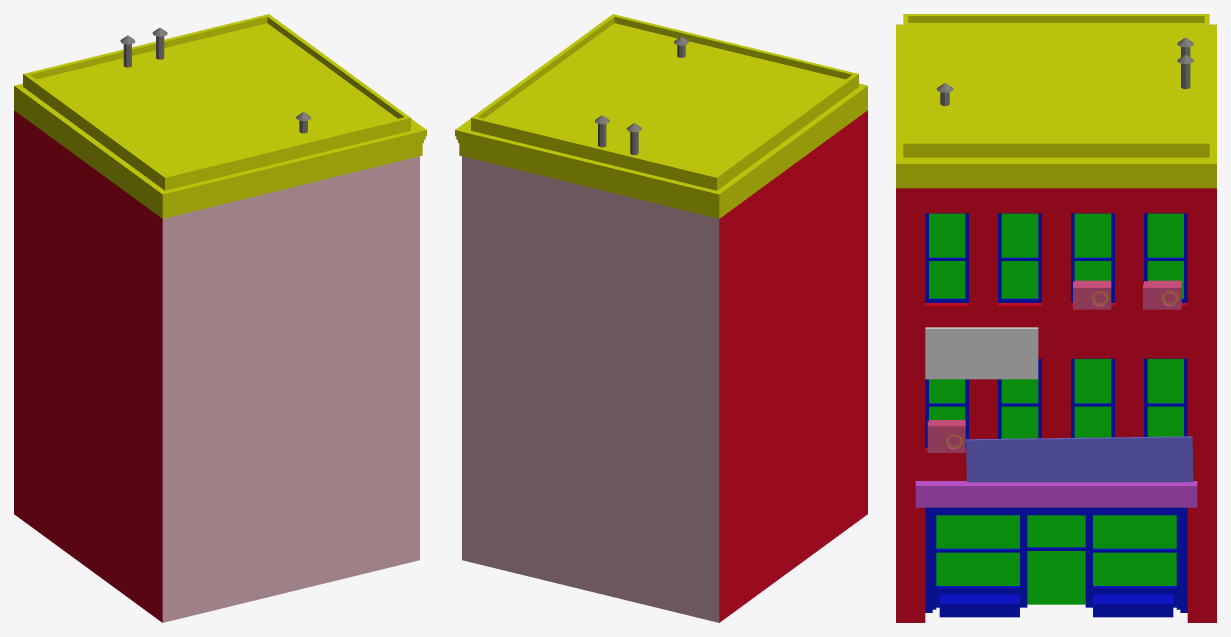
The model's file is Building1.fbx.
3 views of the same model, side by side, from view 1: azimuth 30°, elevation 25°; view 2: azimuth 150°, elevation 25°; view 3: azimuth 270°, elevation 25° (orthographic). The views are drawn at different scales.
Parts seen in each view (by area): view 1: Building 1; view 2: Building 1; view 3: Building 1.
Boxes of the visible parts, <box> form: Building 1: <box>14,14,426,622</box>; Building 1: <box>455,14,867,622</box>; Building 1: <box>896,14,1216,622</box>.
Size of the model in its own units: 82782 by 138072 by 80000.
